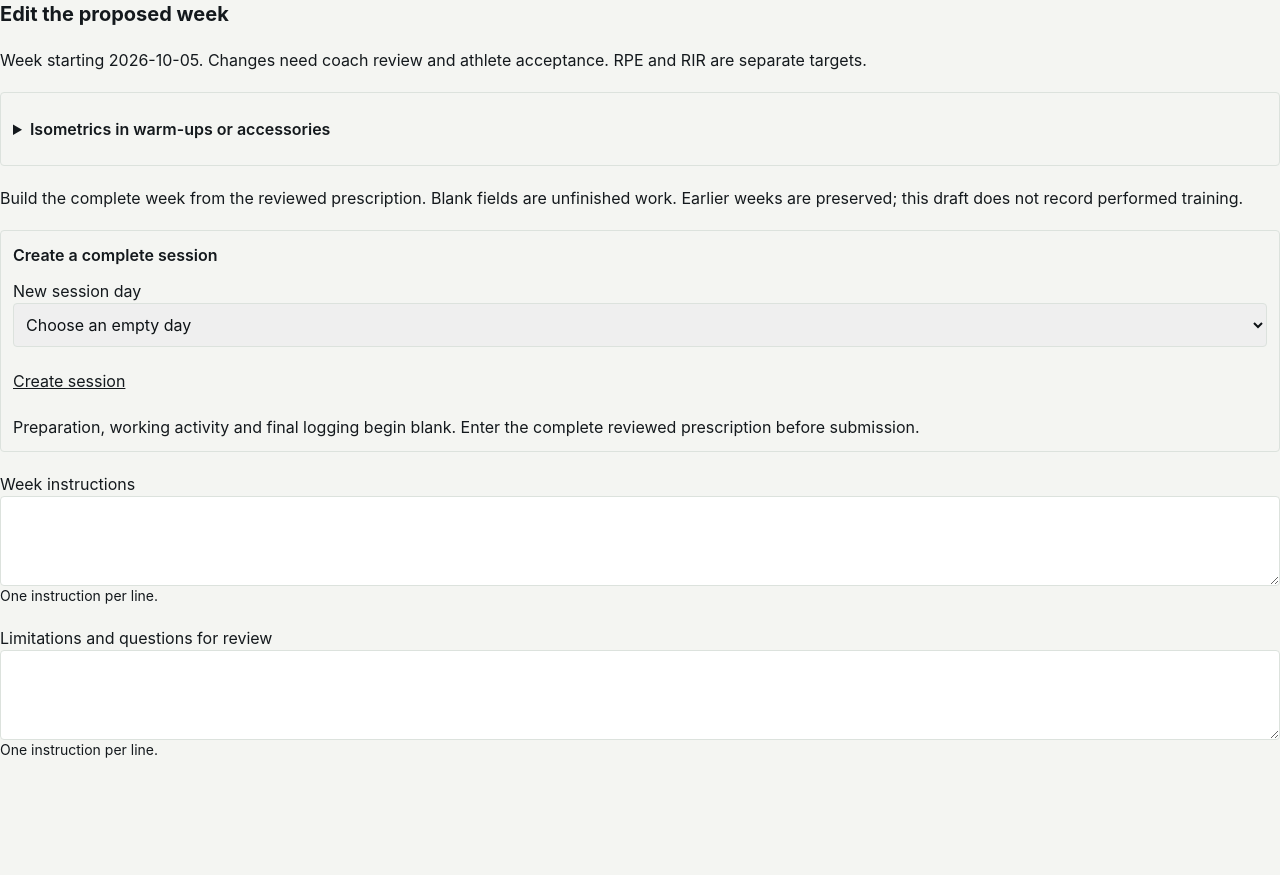
Test case: proposed complete-week editing › builds an initial week from explicit blank sessions with effort/rest and monitoring entry
Expected: the field labelled "Sets" is not shown
Select "tuesday" in the dropdown labelled "New session day" at (640, 325), box [13, 303, 1267, 347]
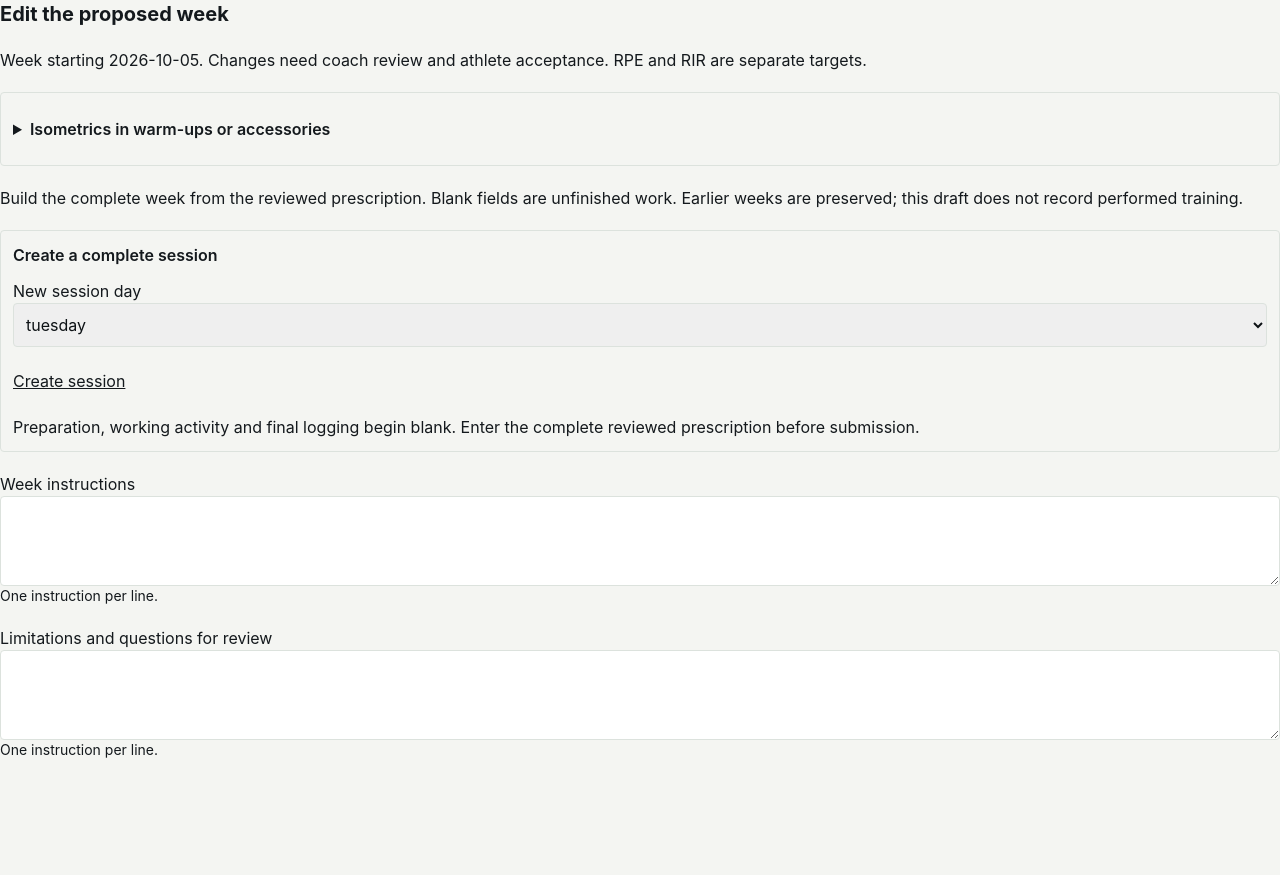
Click the button "Create session".
click(69, 381)  # box [13, 359, 125, 403]
(page scrolled)
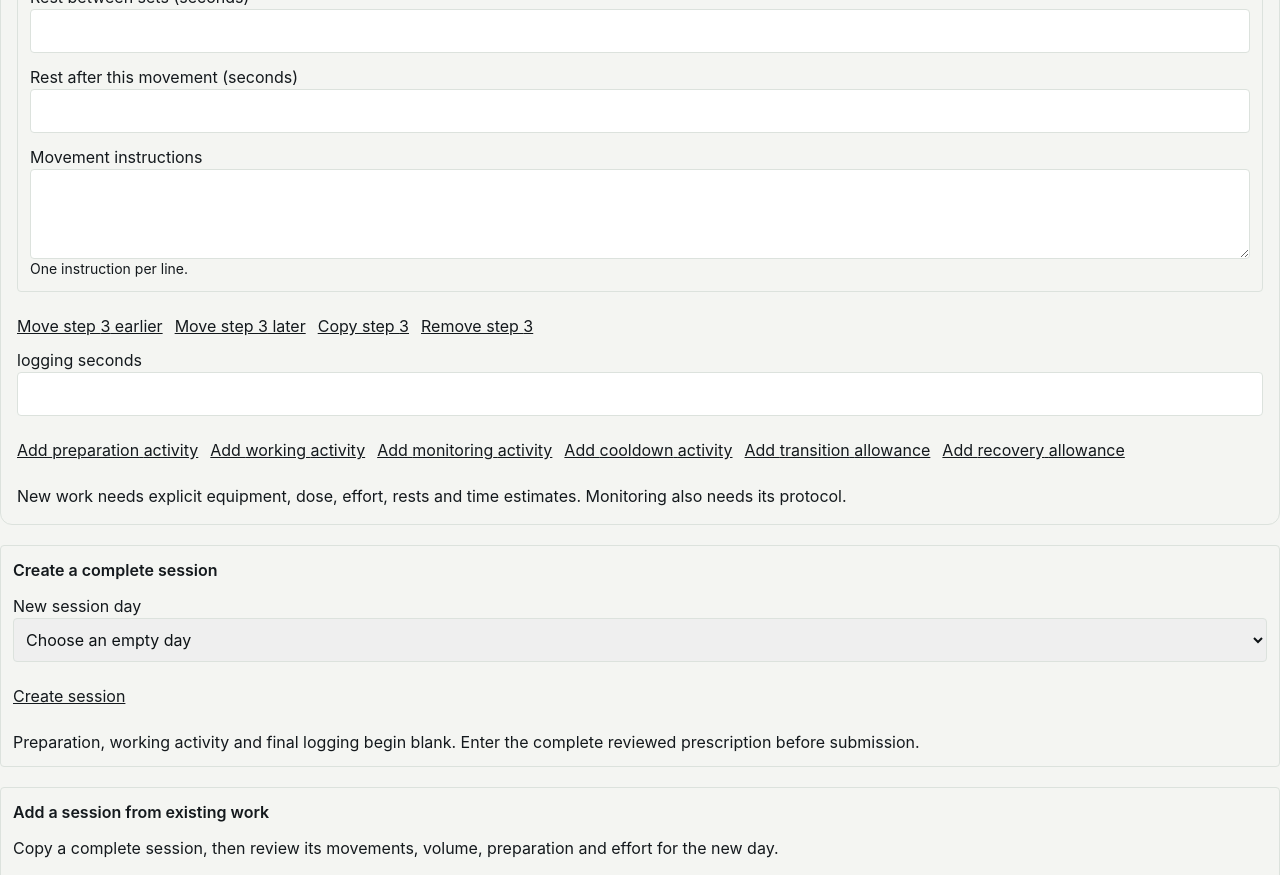
Expected: the number field labelled "logging seconds" is shown, [17, 372, 1263, 416]
Expected: the number of fields labelled "Rest between sets (seconds)" is 2
Click the button "Add monitoring activity".
click(465, 450)  # box [377, 428, 552, 472]
(page scrolled)
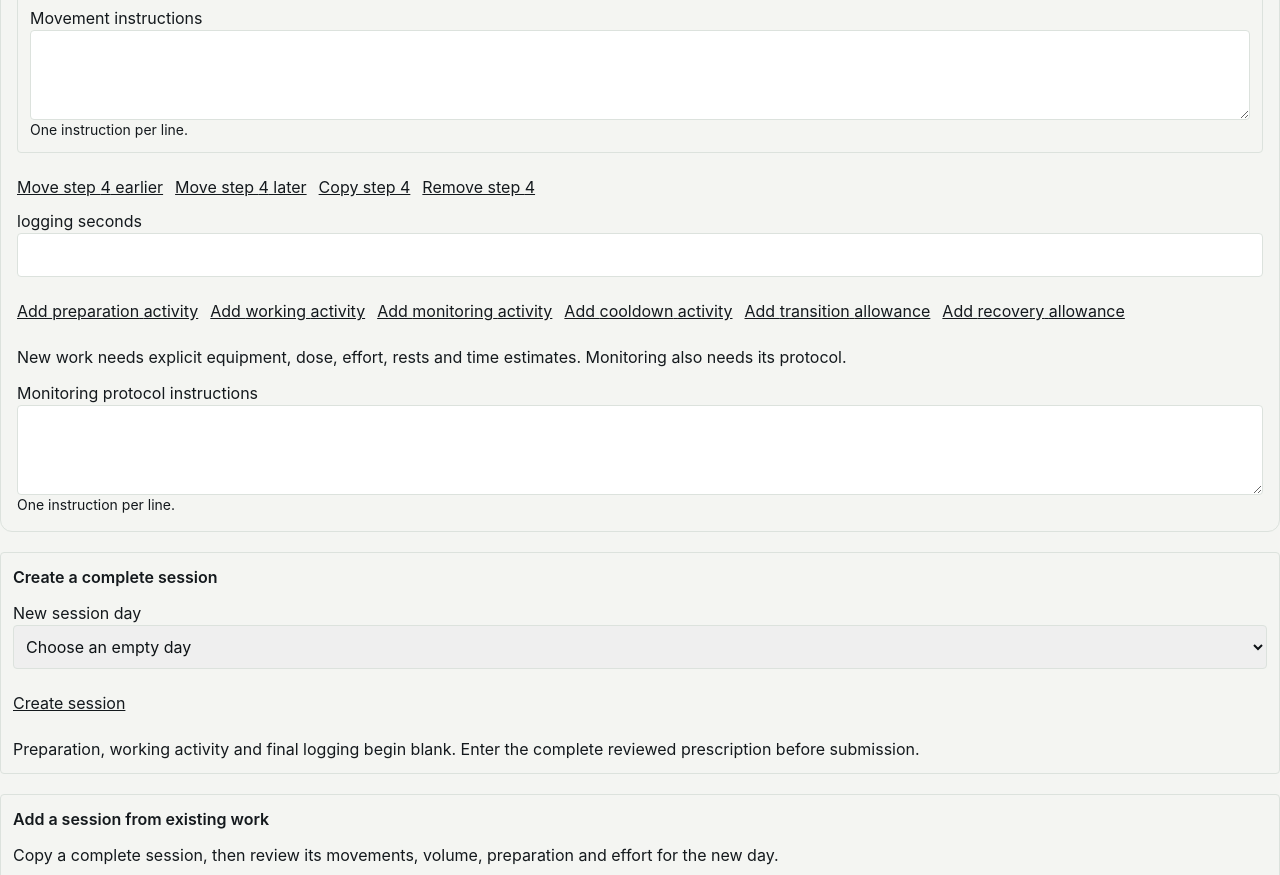
Expected: the text box labelled "Monitoring protocol instructions" is shown, [17, 405, 1263, 495]
